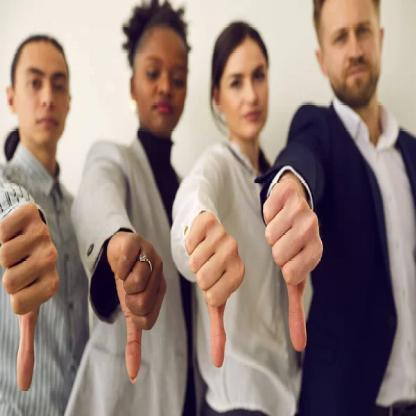thumb_down: (262, 174, 328, 356), (0, 200, 60, 393), (185, 207, 248, 370), (105, 228, 167, 384)
